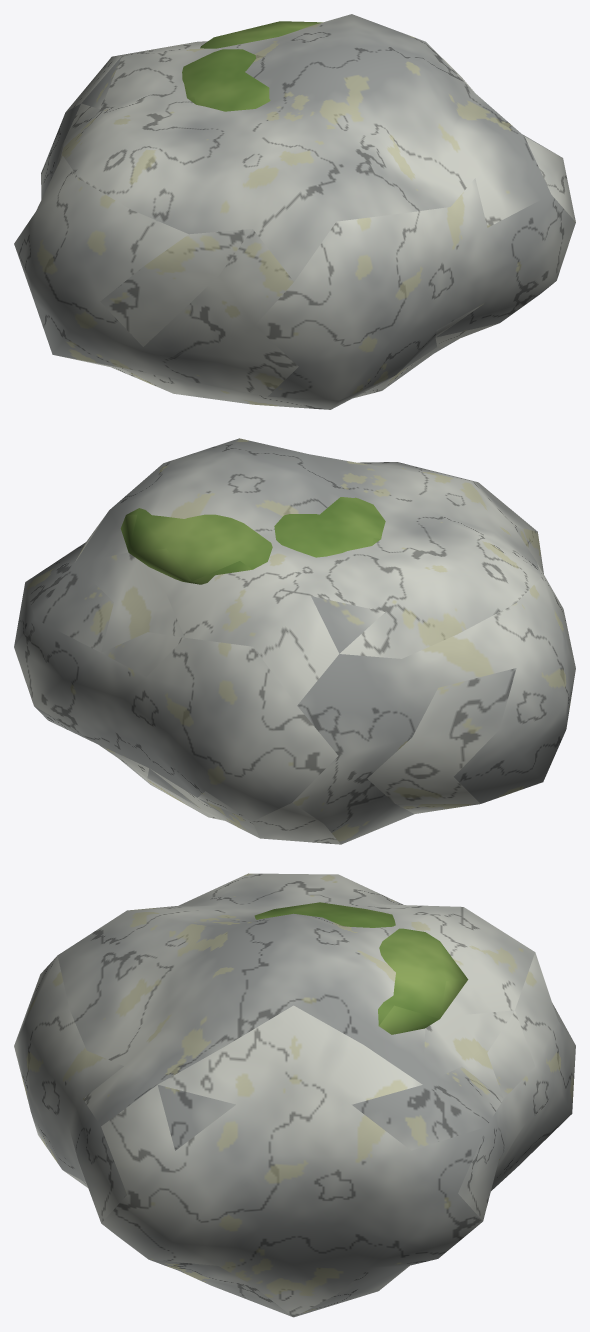
Rendered from rock0.glb.
3 views of the same model, one above another, from view 1: azimuth 30°, elevation 25°; view 2: azimuth 150°, elevation 25°; view 3: azimuth 270°, elevation 25° (orthographic). The views are drawn at different scales.
Visible parts, largest first — view 1: rock0; view 2: rock0; view 3: rock0.
Boxes of the visible parts, <box> form: rock0: <box>14,14,575,409</box>; rock0: <box>14,438,575,844</box>; rock0: <box>14,873,575,1317</box>.
Size of the model in its own units: 1.13 by 0.7337 by 1.06.
2 materials, 2 textured.
